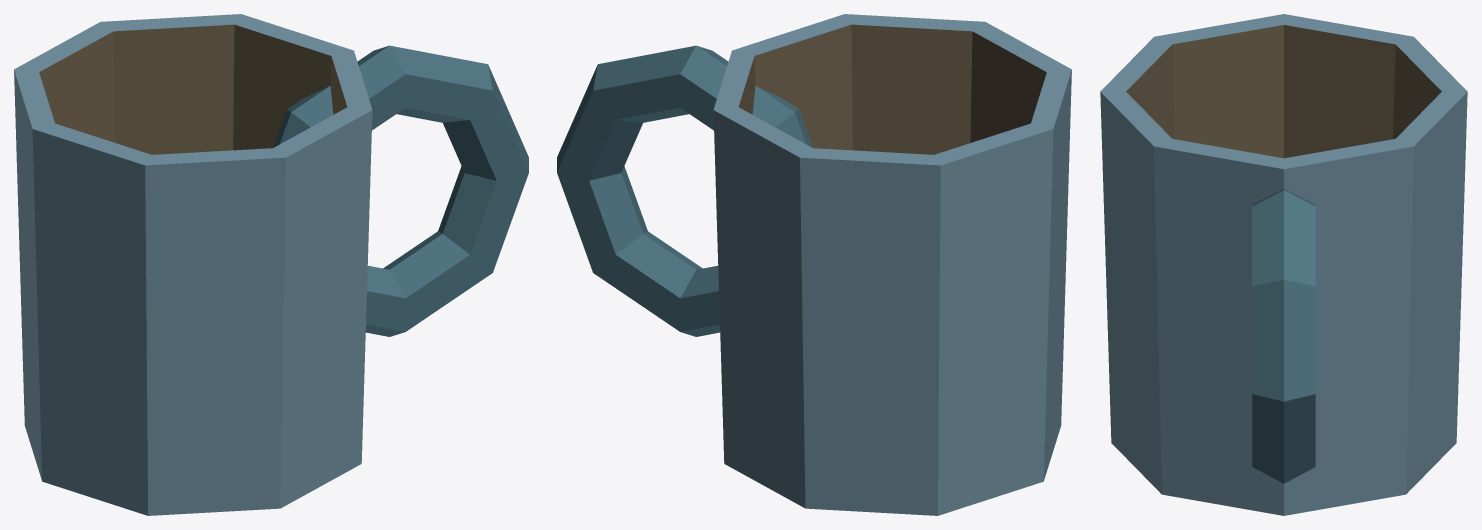
The model's file is qc_mug.obj.
3 renders of one model, left to right at view 1: azimuth 30°, elevation 25°; view 2: azimuth 150°, elevation 25°; view 3: azimuth 270°, elevation 25°, orthographic.
Parts seen in each view (by area): view 1: qc_mug; view 2: qc_mug; view 3: qc_mug.
Part boxes in pixels (x1,y1,x2,y2): qc_mug: [14, 14, 528, 515]; qc_mug: [557, 14, 1071, 515]; qc_mug: [1100, 14, 1467, 515].
Bounding box in the file's own units: 0.278 × 0.19 × 0.18.
